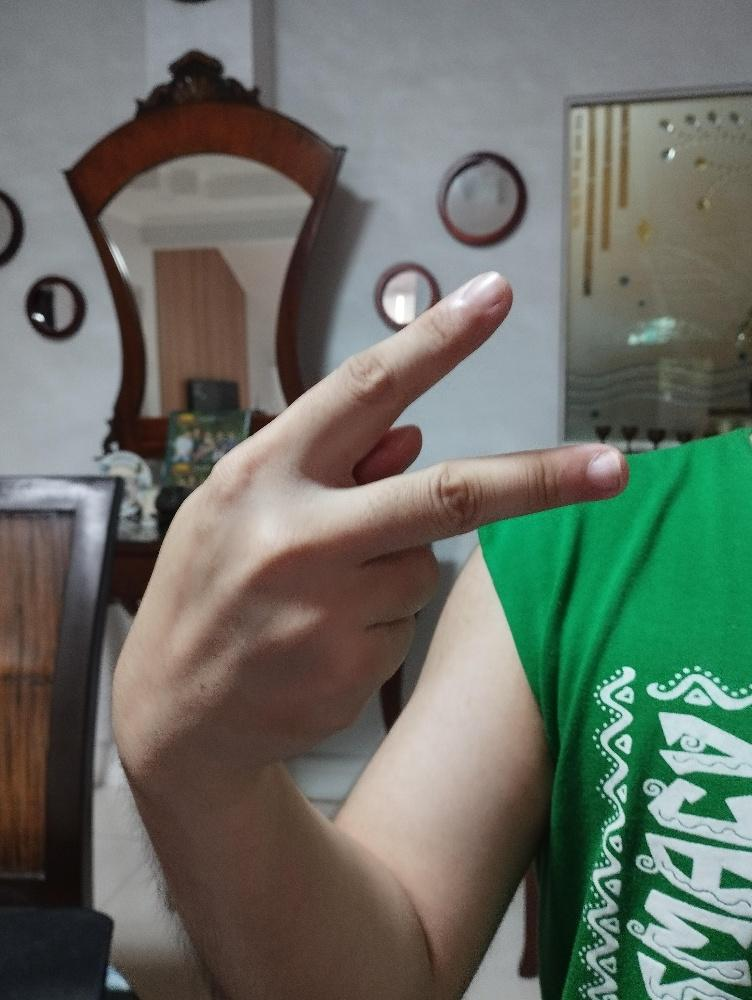k: (107, 267, 632, 788)
